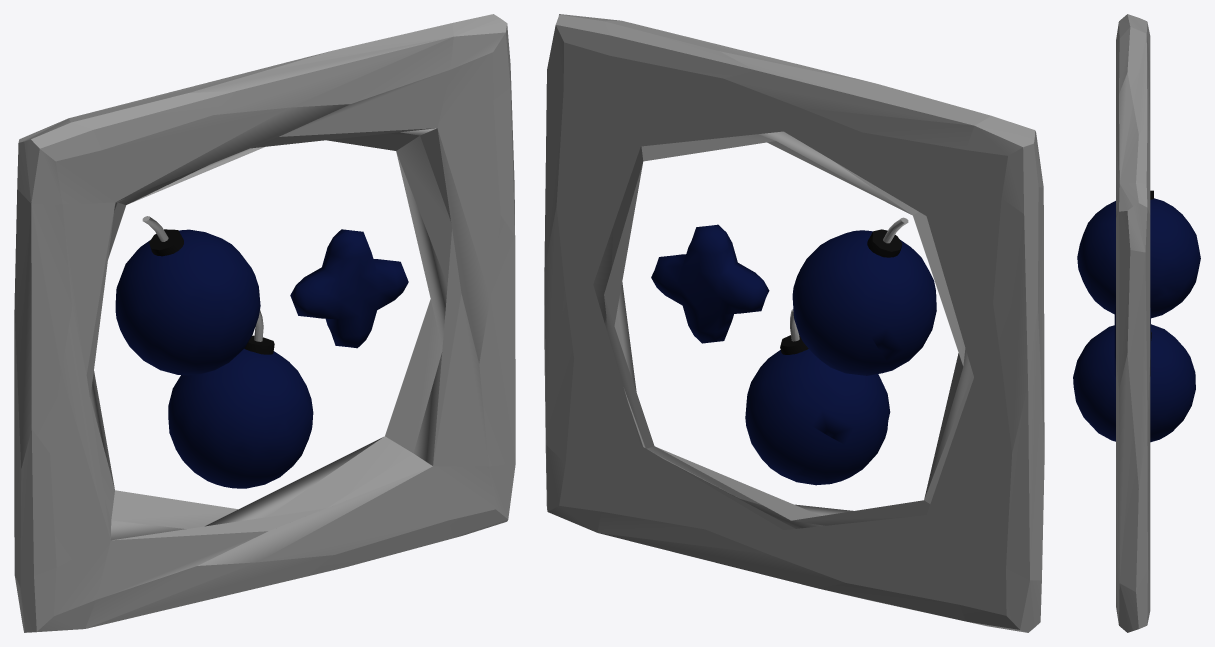
File: bonus_multibombs.FBX
The picture shows the model from 3 angles, left to right: view 1: azimuth 30°, elevation 25°; view 2: azimuth 150°, elevation 25°; view 3: azimuth 270°, elevation 25°; orthographic projection. The views are drawn at different scales.
Parts seen in each view (by area): view 1: elipse; view 2: elipse; view 3: elipse.
Boxes of the visible parts, x1,y1,x2,y2 form: elipse: (14, 14, 515, 632); elipse: (544, 14, 1044, 632); elipse: (1073, 14, 1200, 632).
Bounding box in the file's own units: 50.36 × 49.99 × 13.33.
